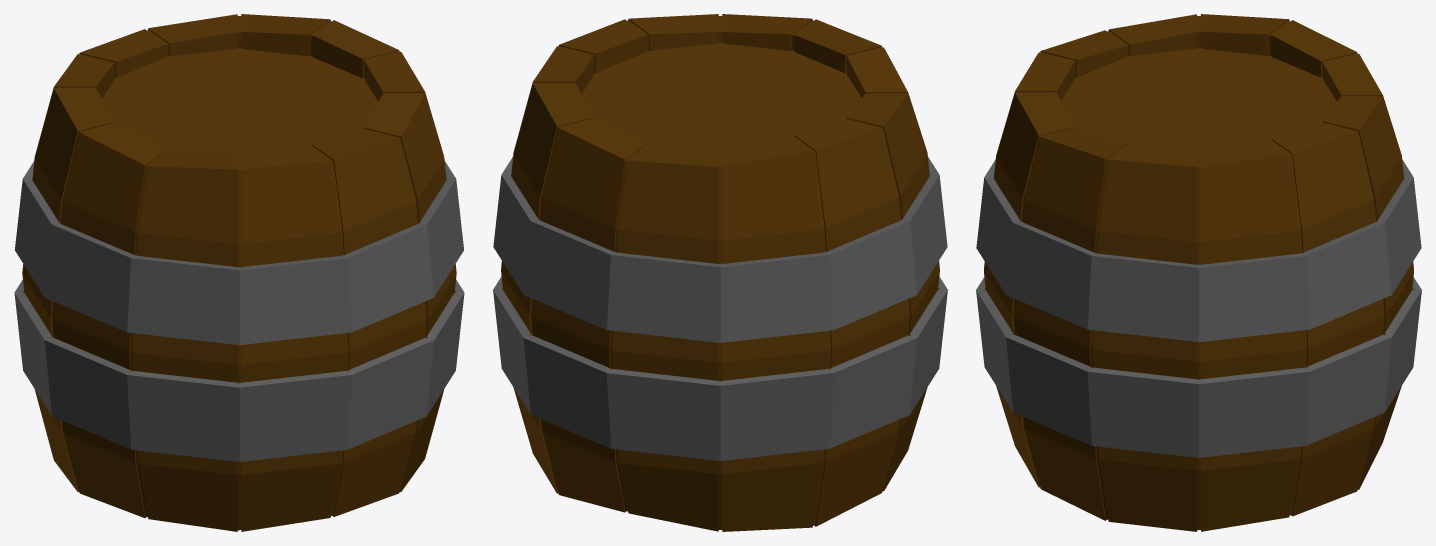
File: Barrel.fbx
The picture shows the model from 3 angles, left to right: view 1: azimuth 30°, elevation 25°; view 2: azimuth 150°, elevation 25°; view 3: azimuth 270°, elevation 25°; orthographic projection. The views are drawn at different scales.
Parts seen in each view (by area): view 1: Cylinder; view 2: Cylinder; view 3: Cylinder.
Part boxes in pixels (x1,y1,x2,y2): Cylinder: (14, 14, 464, 531); Cylinder: (493, 14, 947, 531); Cylinder: (976, 14, 1421, 531).
Size of the model in its own units: 2.42 by 2.42 by 2.21.
